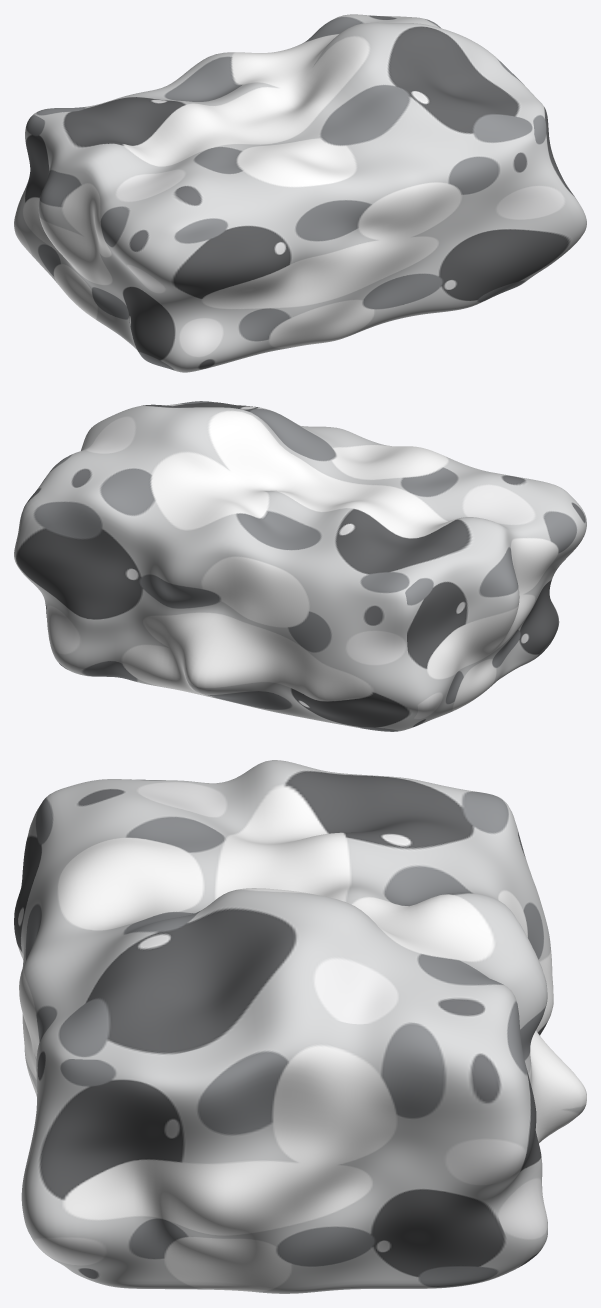
The model's file is Stone3.fbx.
3 renders of one model, top to bottom at view 1: azimuth 30°, elevation 25°; view 2: azimuth 150°, elevation 25°; view 3: azimuth 270°, elevation 25°, orthographic. The views are drawn at different scales.
Visible parts, largest first — view 1: Stone3; view 2: Stone3; view 3: Stone3.
Boxes of the visible parts, x1,y1,x2,y2 form: Stone3: (14, 14, 586, 372); Stone3: (14, 401, 586, 731); Stone3: (14, 760, 586, 1293).
Size of the model in its own units: 7.13 by 3.35 by 5.2.
Materials: 1 (1 with a texture image).
